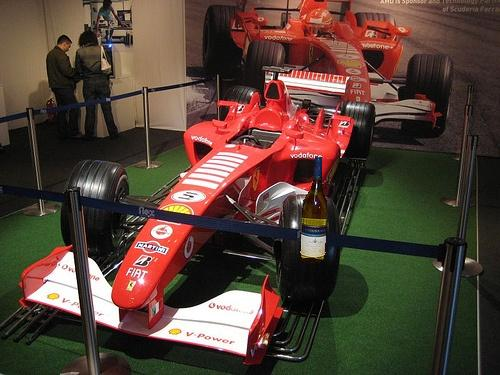tampered: (301, 157, 327, 263)
